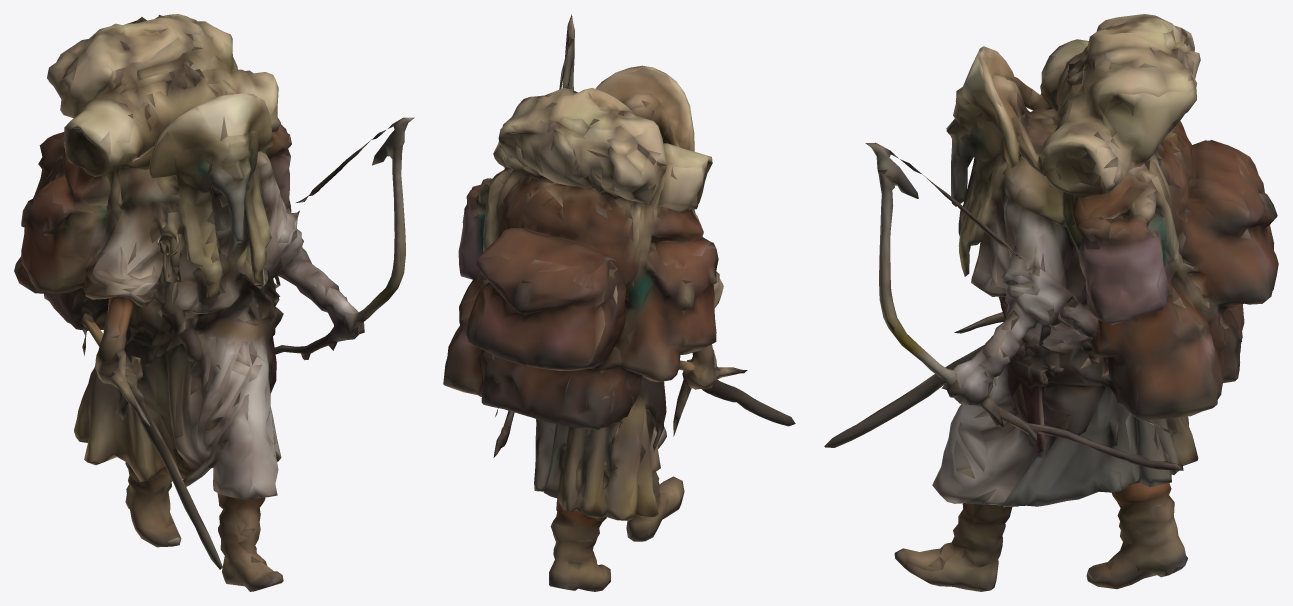
Rendered from Tuff_final.glb.
The picture shows the model from 3 angles, left to right: view 1: azimuth 30°, elevation 25°; view 2: azimuth 150°, elevation 25°; view 3: azimuth 270°, elevation 25°; orthographic projection. The views are drawn at different scales.
Parts seen in each view (by area): view 1: Mesh1.0; view 2: Mesh1.0; view 3: Mesh1.0.
Part boxes in pixels (x1=…): Mesh1.0: x1=14, y1=14, x2=414, y2=591; Mesh1.0: x1=443, y1=14, x2=795, y2=591; Mesh1.0: x1=824, y1=14, x2=1278, y2=591.
Bounding box in the file's own units: 0.9681 × 1.8 × 1.34.
Materials: 1 (1 with a texture image).
